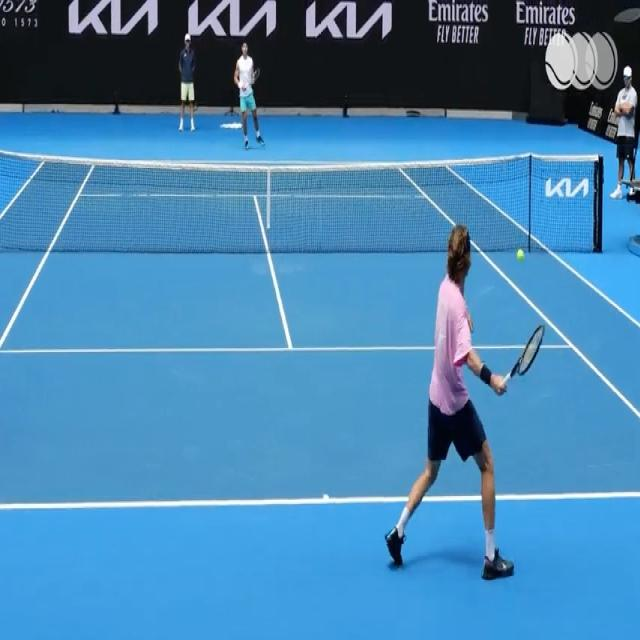forehand-ready: (385, 226, 544, 574)
